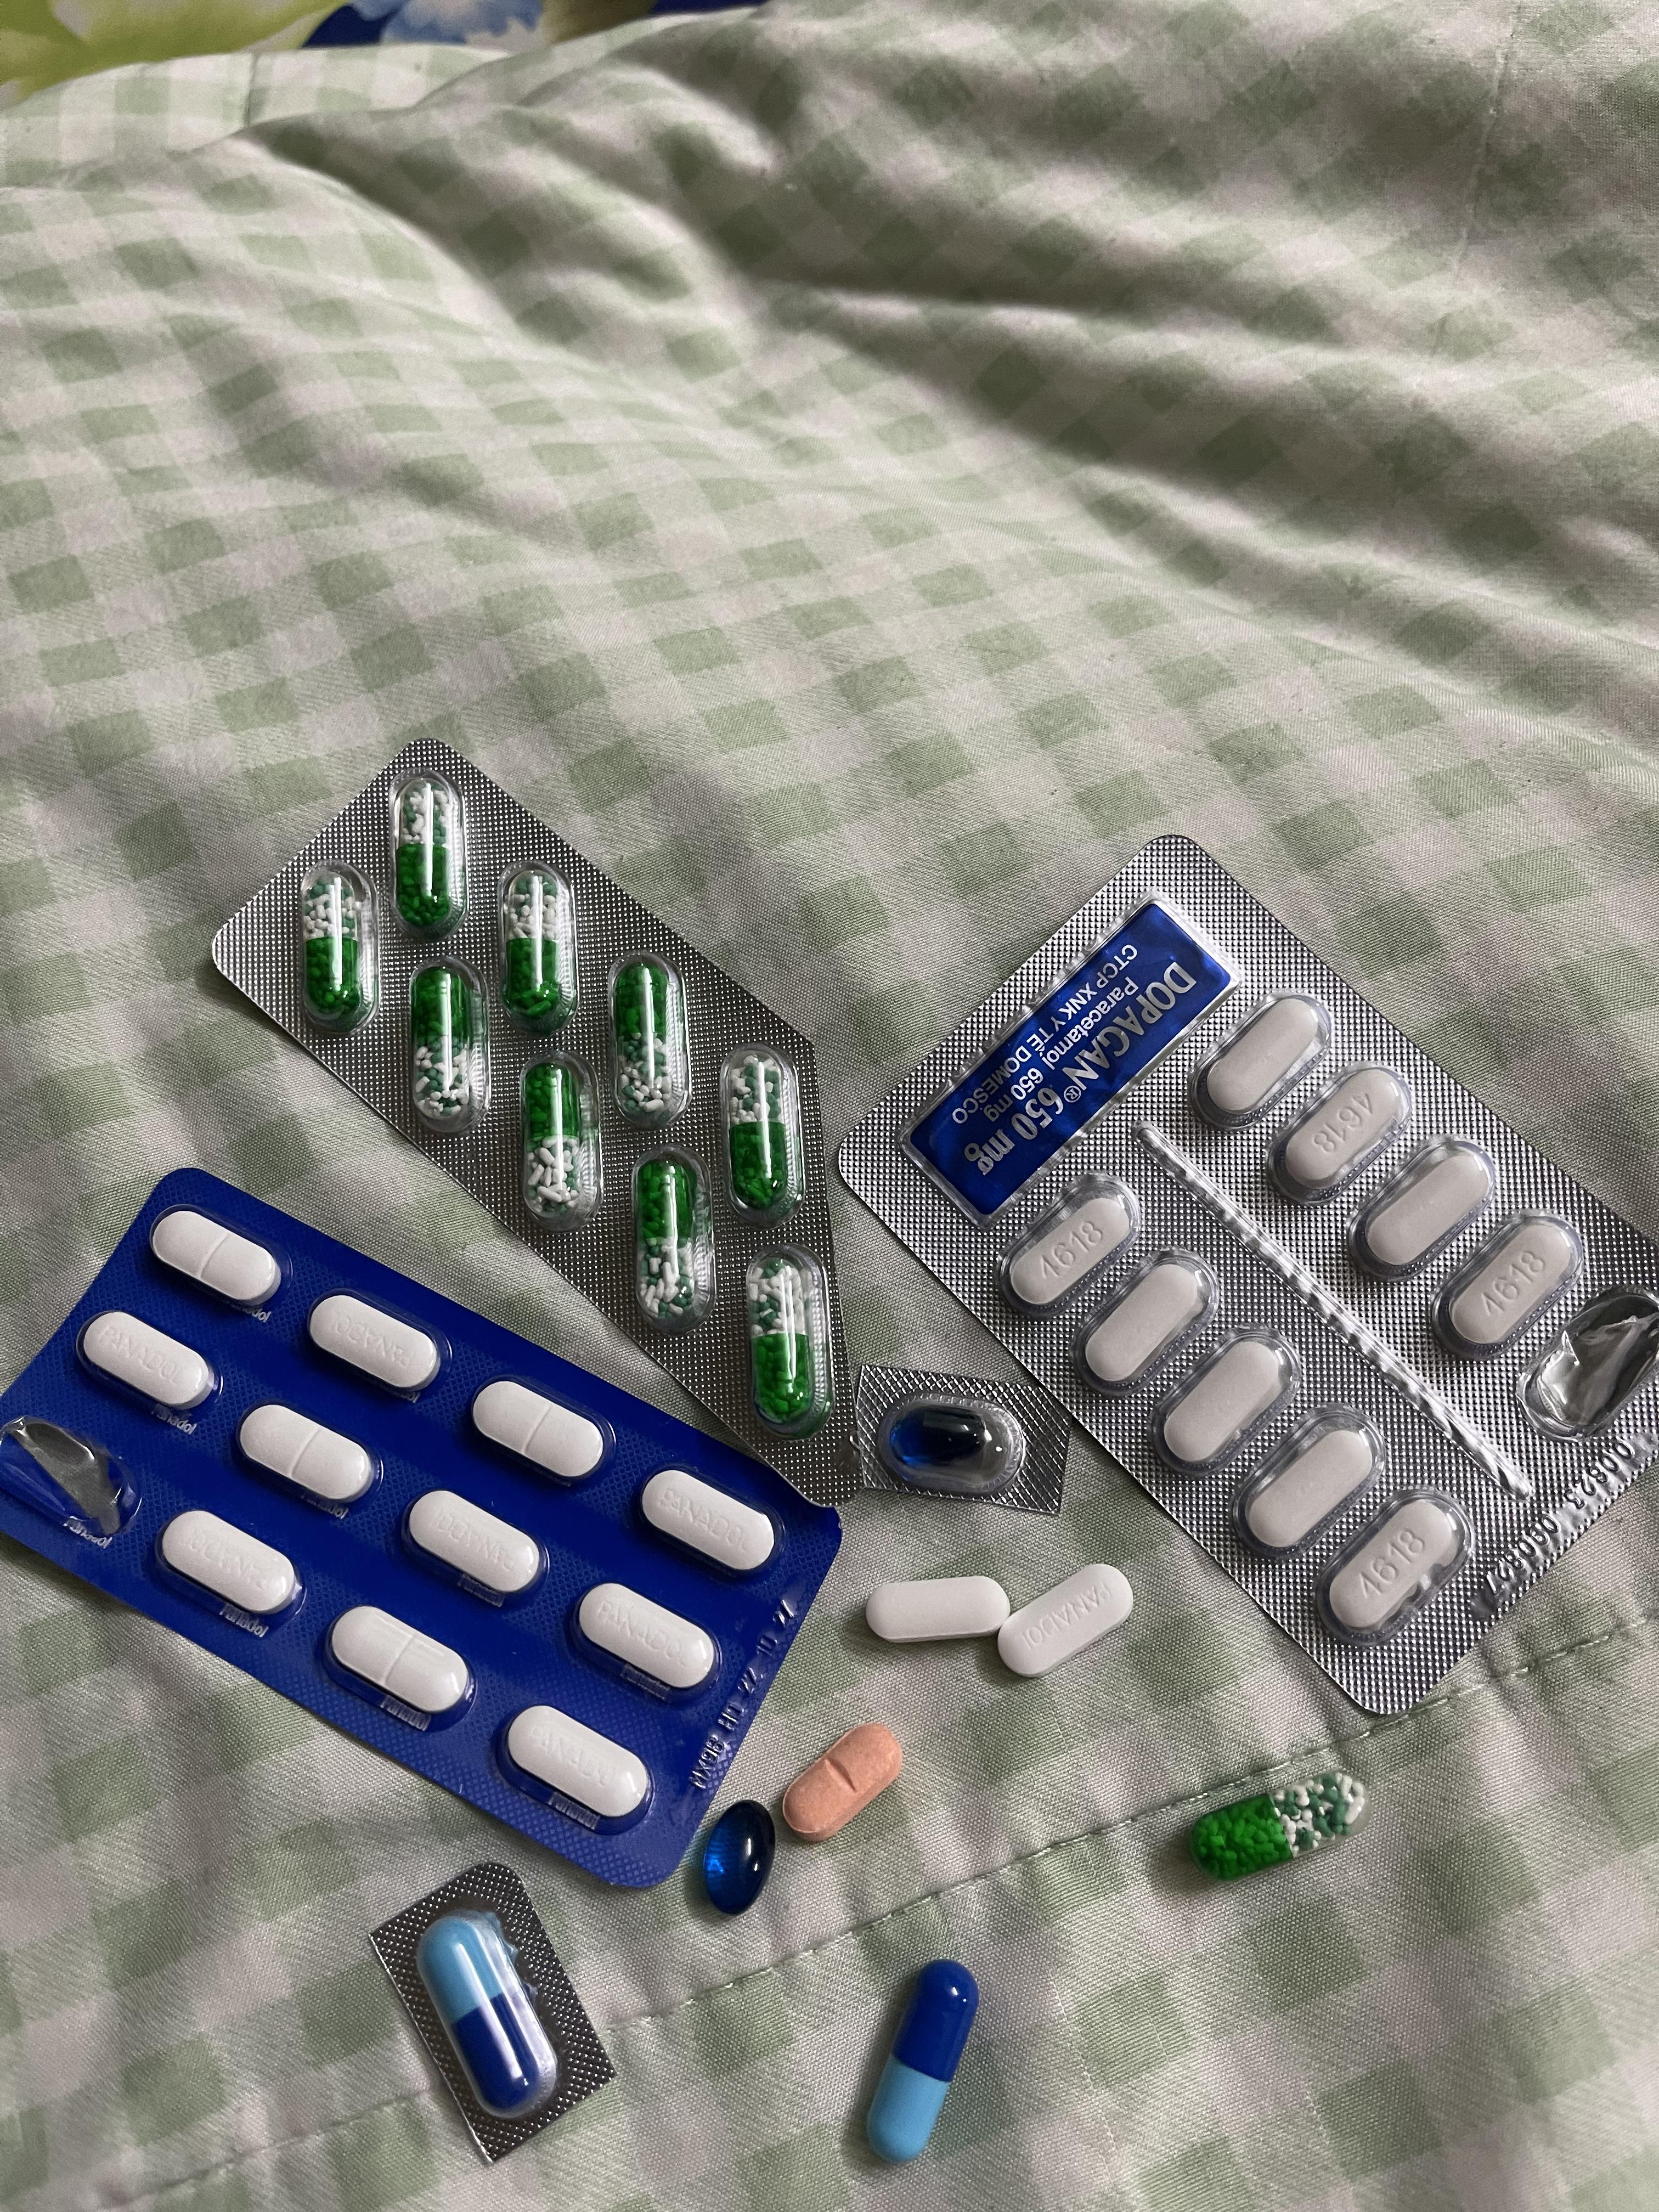Lincomyxin_500mg: (699, 1797, 777, 1916), (908, 1413, 983, 1463)
Loratadine_10mg: (779, 1721, 889, 1841)
Paracetamol_350mg: (502, 1703, 652, 1829), (324, 1606, 471, 1726), (573, 1580, 720, 1696), (403, 1493, 544, 1606), (160, 1512, 301, 1625), (237, 1404, 376, 1515), (641, 1468, 782, 1578), (82, 1310, 220, 1418), (472, 1378, 610, 1484), (307, 1292, 443, 1399), (999, 1568, 1129, 1677), (152, 1209, 284, 1312)
Paracetamol_500mg: (1307, 1486, 1471, 1644), (1227, 1400, 1380, 1562), (1429, 1207, 1582, 1360), (1147, 1315, 1290, 1472), (1265, 1059, 1412, 1209), (1345, 1132, 1493, 1278), (1070, 1235, 1206, 1390), (1000, 1169, 1134, 1318), (1204, 998, 1323, 1116), (864, 1576, 1006, 1646)
Paracetamol_650mg: (1194, 1771, 1373, 1879), (633, 1148, 713, 1329), (519, 1055, 601, 1230), (748, 1247, 828, 1425), (720, 1049, 798, 1212), (613, 963, 683, 1123), (301, 871, 369, 1017), (411, 967, 474, 1123), (504, 876, 566, 1024), (396, 780, 457, 932)
pill: (416, 1905, 561, 2121), (866, 1956, 976, 2161)
